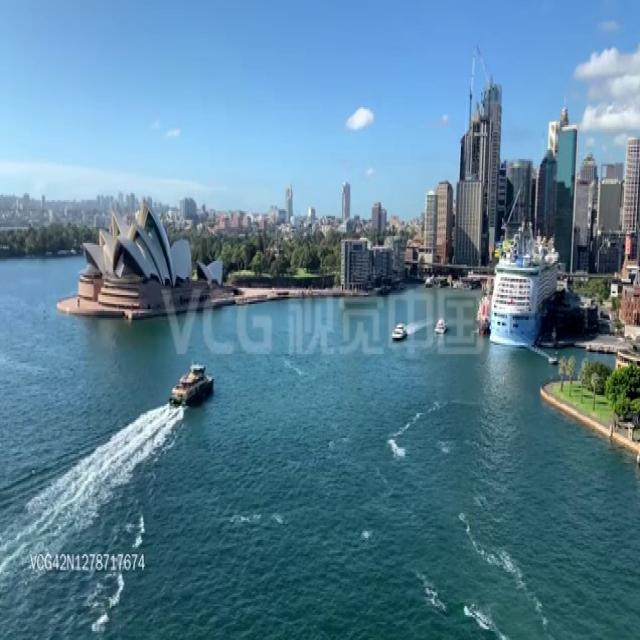houseboat: (170, 356, 213, 409), (389, 318, 408, 338), (436, 315, 451, 338)
passenger ship: (489, 222, 560, 348)
